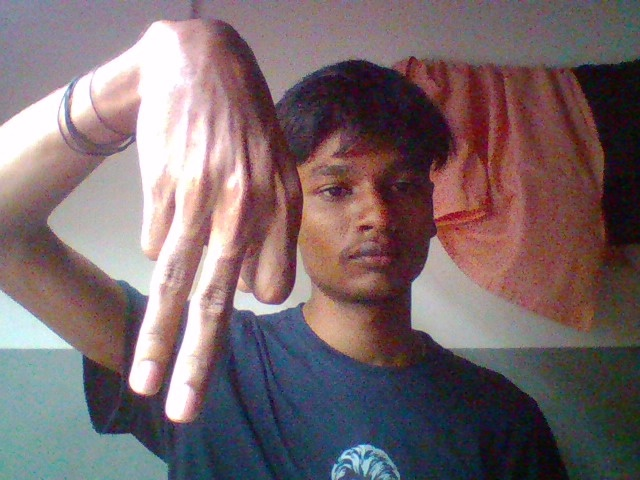N: (85, 33, 359, 478)
